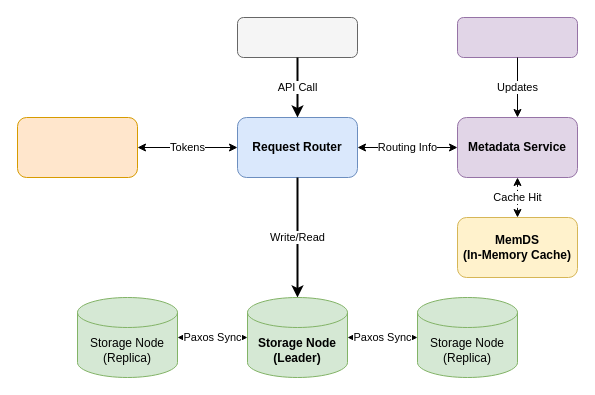
Image size: 595x395. Some labels were removed from this diagram. Here are the shapes that lost their labels. From the top down, the centre of each, then its label:
At [297,37]: "Client Application".
At [517,37]: "AutoAdmin".
At [77,147]: "Global Admission Control (GAC)".
